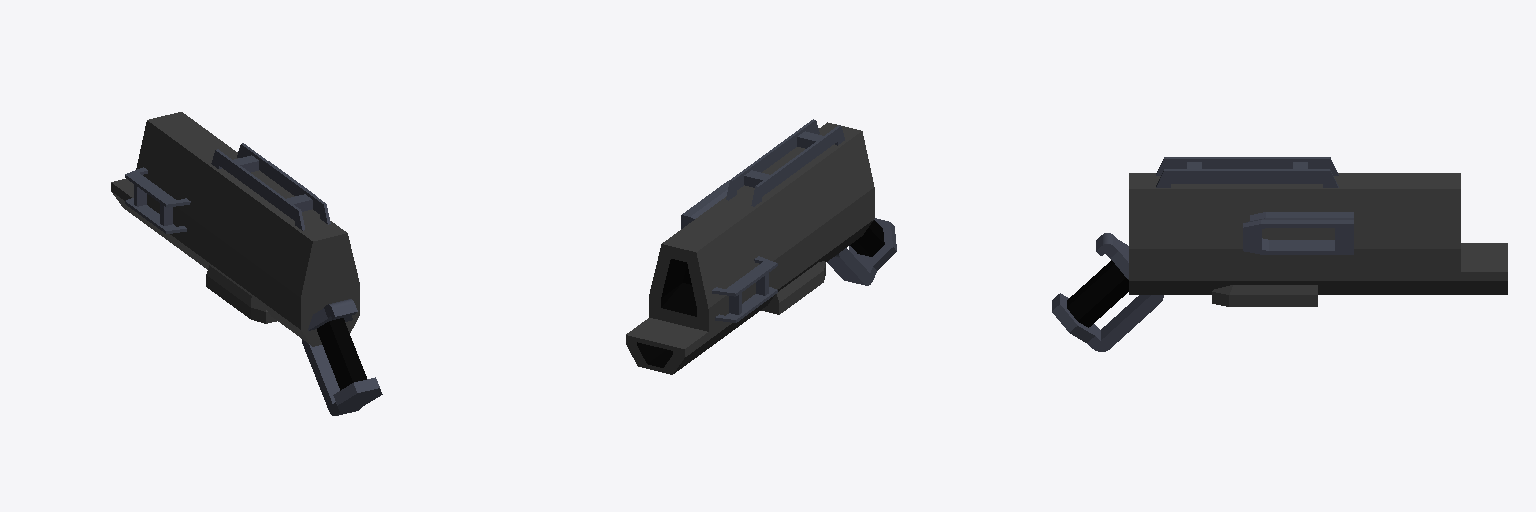
Rendered from body2.model.obj.
3 views of the same model, side by side, from view 1: azimuth 30°, elevation 25°; view 2: azimuth 150°, elevation 25°; view 3: azimuth 270°, elevation 25° (orthographic).
Size of the model in its own units: 0.483 by 0.8494 by 1.92.